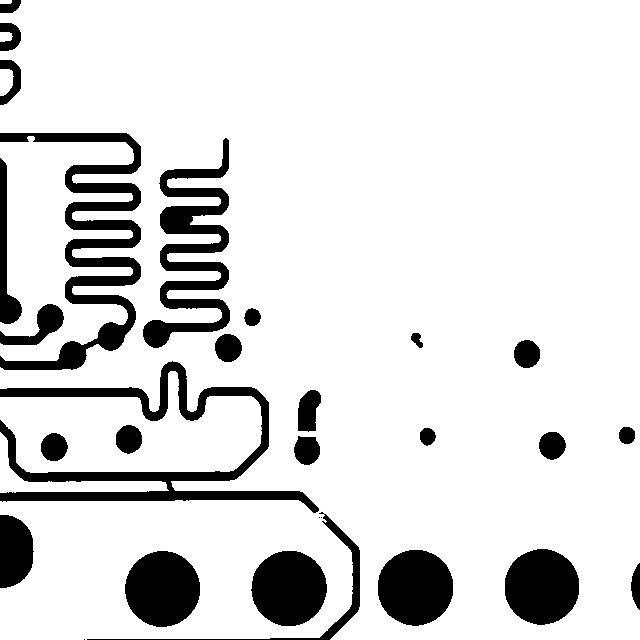copper: (402, 323, 432, 357)
mousebite: (17, 126, 44, 151)
open: (297, 497, 336, 532), (287, 421, 331, 446)
short: (155, 201, 202, 237), (66, 328, 110, 360), (151, 466, 184, 503)
